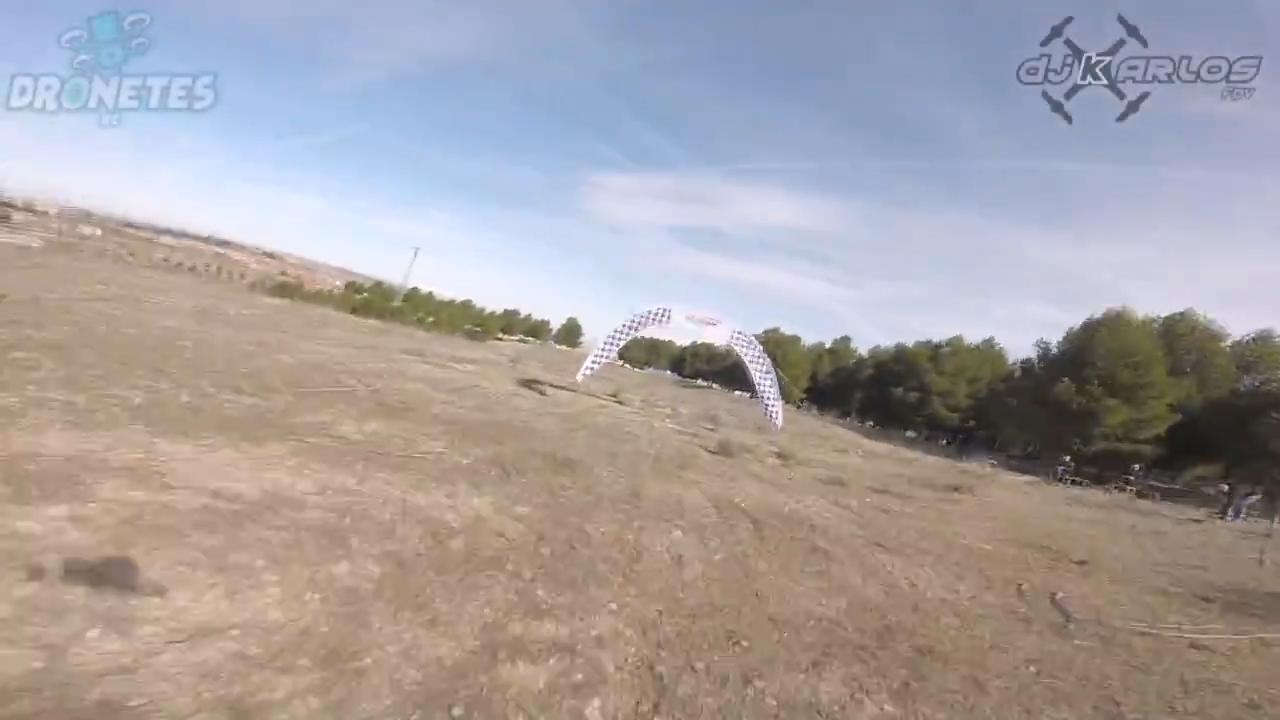gate: (572, 302, 791, 436)
